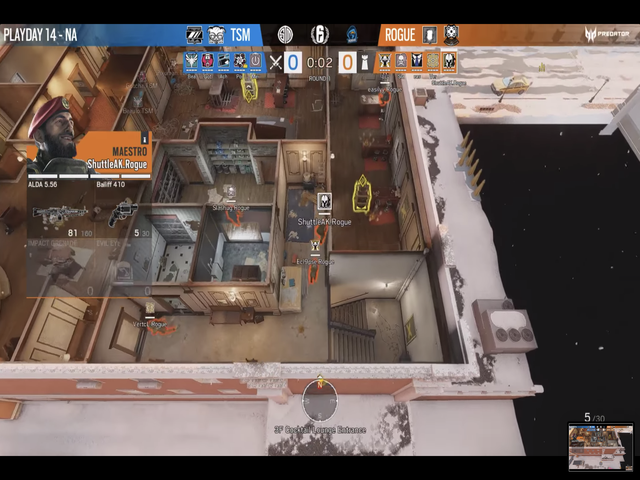0_blue: (284, 52, 304, 72)
